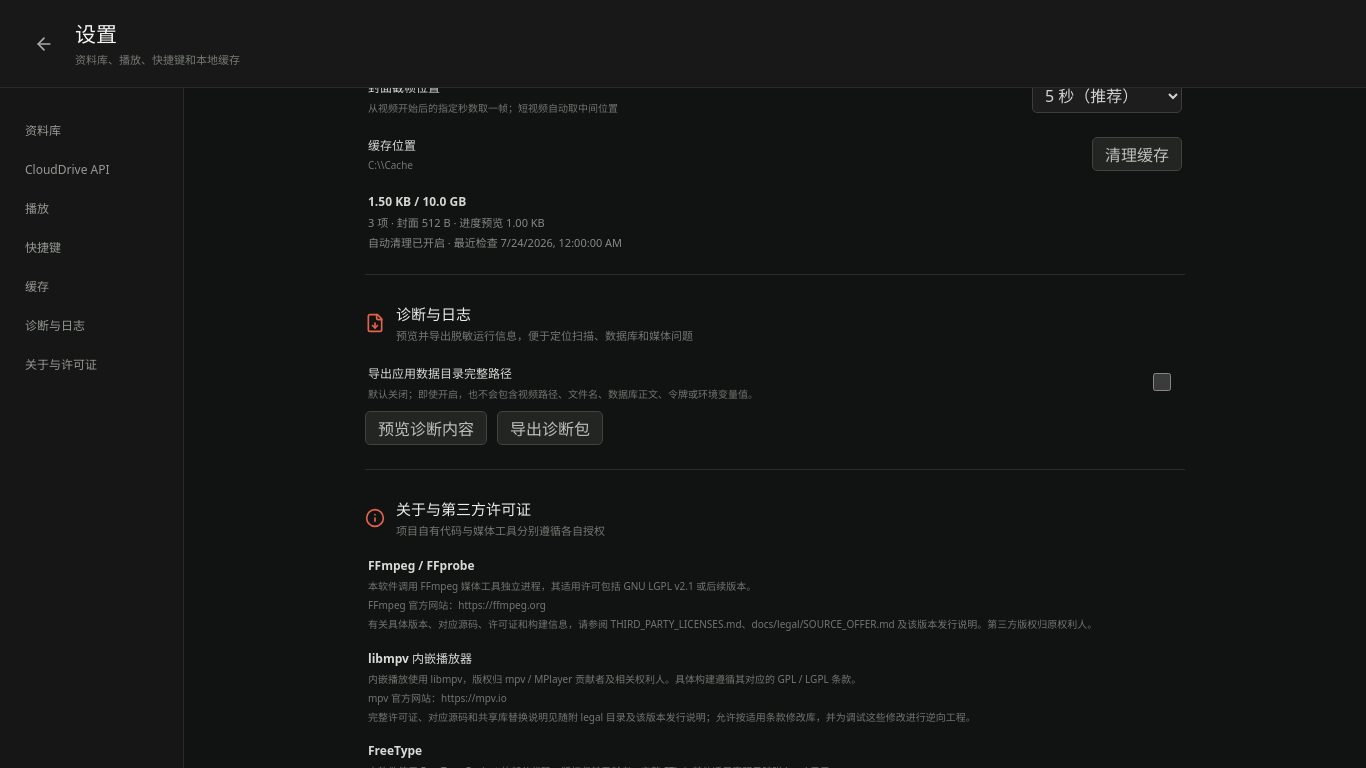
Test: SettingsPage › previews the diagnostics whitelist before enabling export
(page scrolled)
Expected: the button "导出诊断包" is disabled, [497,411,603,445]
Click the button "预览诊断内容".
click(426, 428)  # box [365,411,487,445]
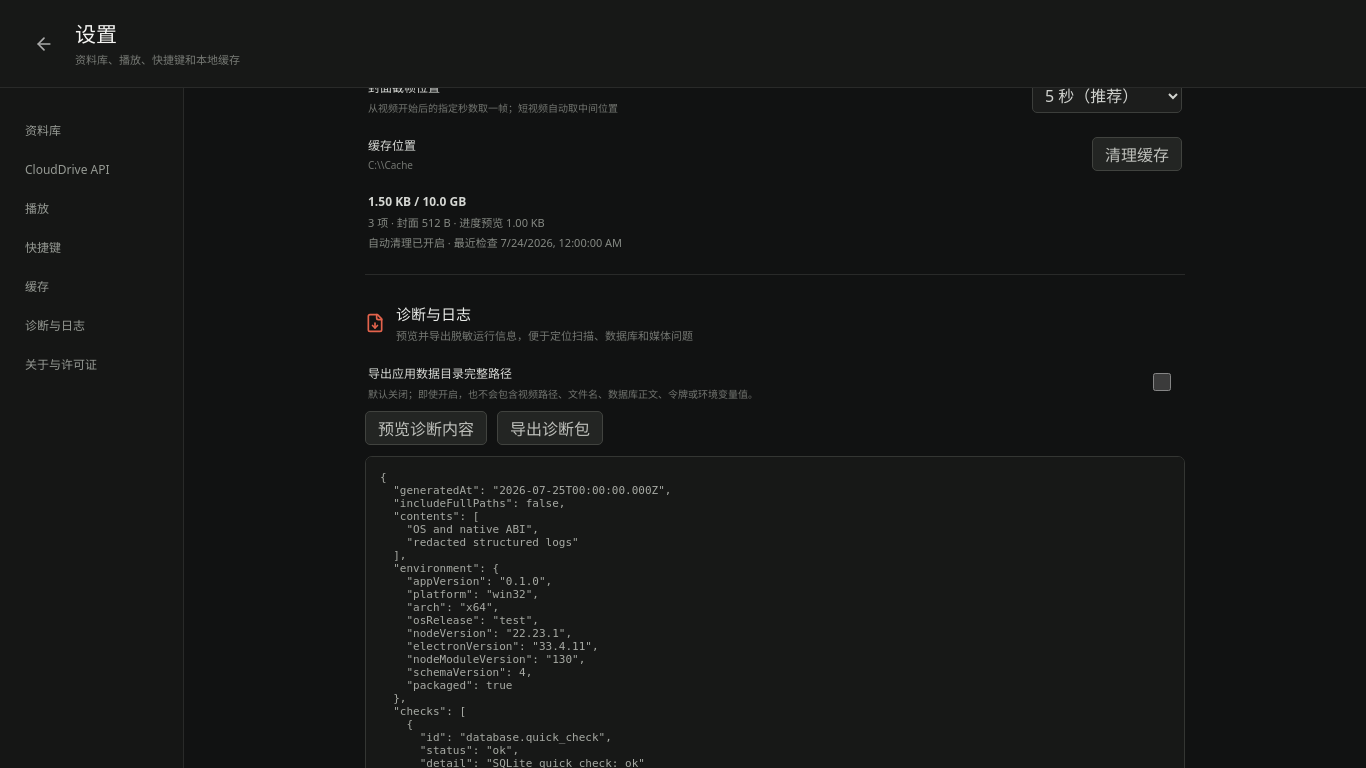
Expected: the button "导出诊断包" is enabled, [497,411,603,445]
Expected: the text named "诊断内容预览" shows "database.quick_check", [380,471,671,767]
